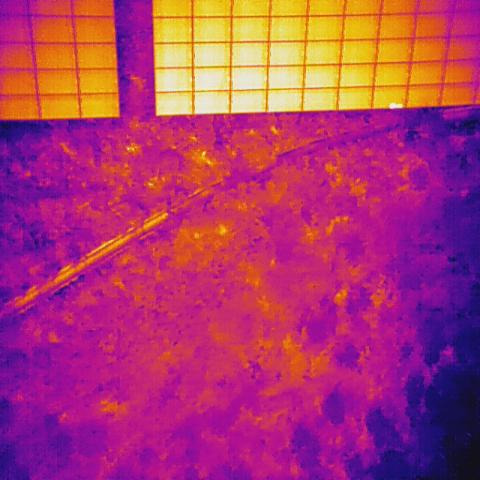fault: (389, 101, 404, 110)
